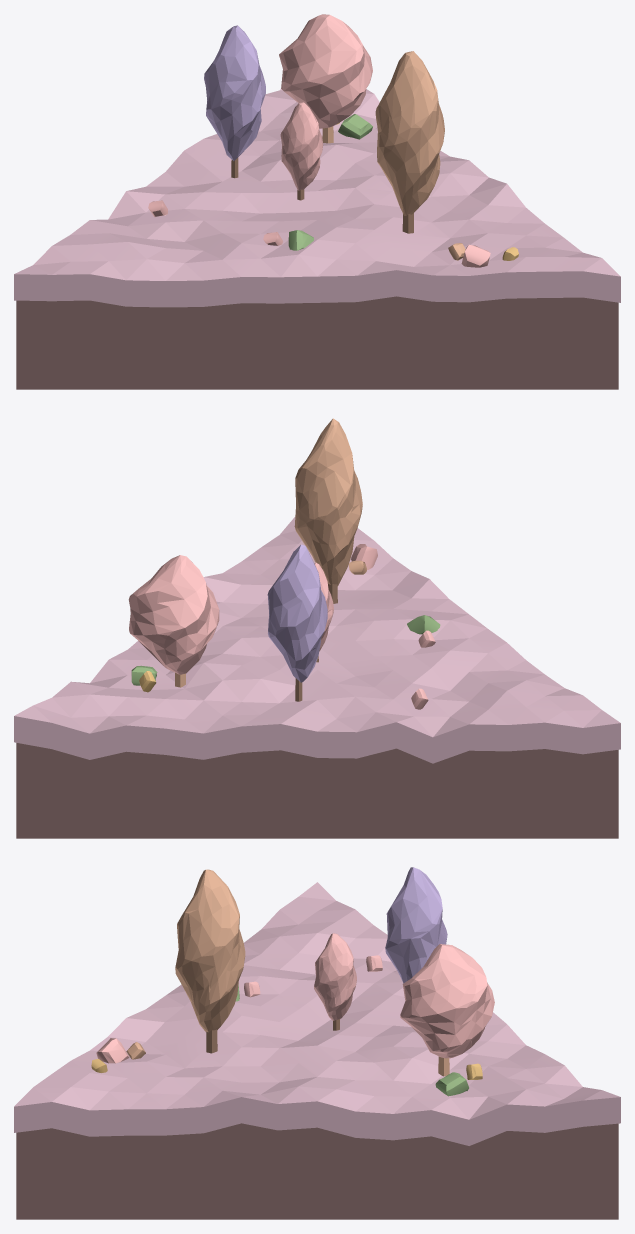
The model's file is TILE_06_04_TwistTree.fbx.
The picture shows the model from 3 angles, top to bottom: view 1: azimuth 30°, elevation 25°; view 2: azimuth 150°, elevation 25°; view 3: azimuth 270°, elevation 25°; orthographic projection.
Parts seen in each view (by area): view 1: polySurface13, polySurface12, pCube17, pCube16, pCube15, pCube17 1, pCube18, pCube23; view 2: polySurface13, polySurface12, pCube17, pCube16, pCube15; view 3: polySurface13, polySurface12, pCube17, pCube16, pCube15, pCube17 1, pCube23, pCube18.
Part boxes in pixels (x1=…): polySurface13: x1=14, y1=89, x2=620, y2=307; polySurface12: x1=16, y1=296, x2=618, y2=389; pCube17: x1=375, y1=51, x2=444, y2=215; pCube16: x1=279, y1=14, x2=372, y2=128; pCube15: x1=204, y1=25, x2=265, y2=160; pCube17 1: x1=280, y1=102, x2=323, y2=190; pCube18: x1=338, y1=114, x2=372, y2=139; pCube23: x1=461, y1=244, x2=490, y2=267; polySurface13: x1=14, y1=517, x2=620, y2=763; polySurface12: x1=16, y1=743, x2=618, y2=838; pCube17: x1=294, y1=418, x2=362, y2=585; pCube16: x1=128, y1=555, x2=219, y2=674; pCube15: x1=267, y1=544, x2=327, y2=682; polySurface13: x1=14, y1=882, x2=620, y2=1145; polySurface12: x1=16, y1=1123, x2=618, y2=1219; pCube17: x1=175, y1=869, x2=245, y2=1032; pCube16: x1=400, y1=944, x2=494, y2=1058; pCube15: x1=385, y1=867, x2=447, y2=983; pCube17 1: x1=314, y1=933, x2=356, y2=1020; pCube23: x1=96, y1=1038, x2=129, y2=1063; pCube18: x1=435, y1=1072, x2=468, y2=1096.
Size of the model in its own units: 151 by 94.05 by 175.
